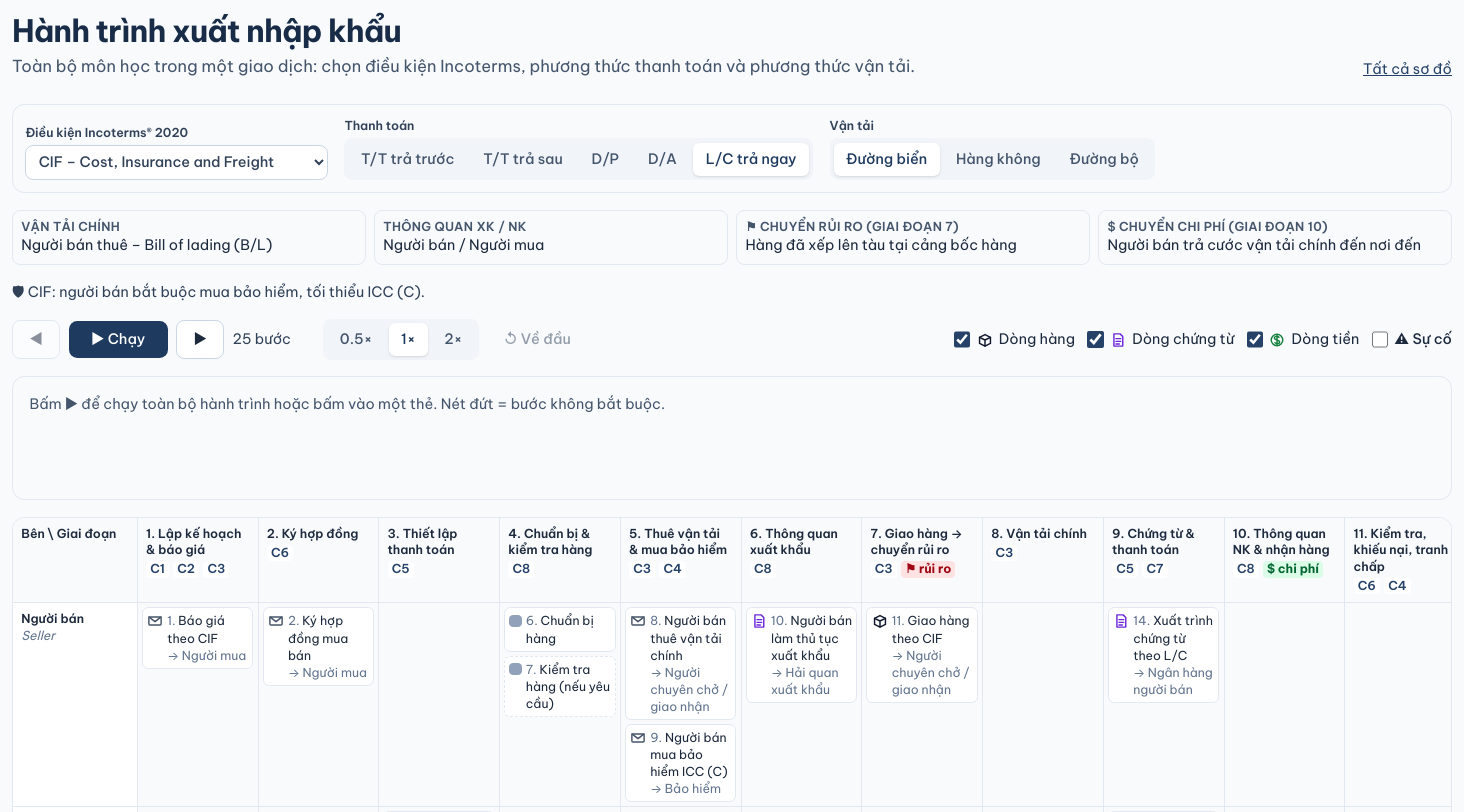
Test: JourneyPage › switching to air disables sea-only rules and explains why
What coordinates should you click on to do the following:
click the radio button labelled "Hàng không"
I would click on:
 (998, 159)
Its box is [944,142,1053,176].
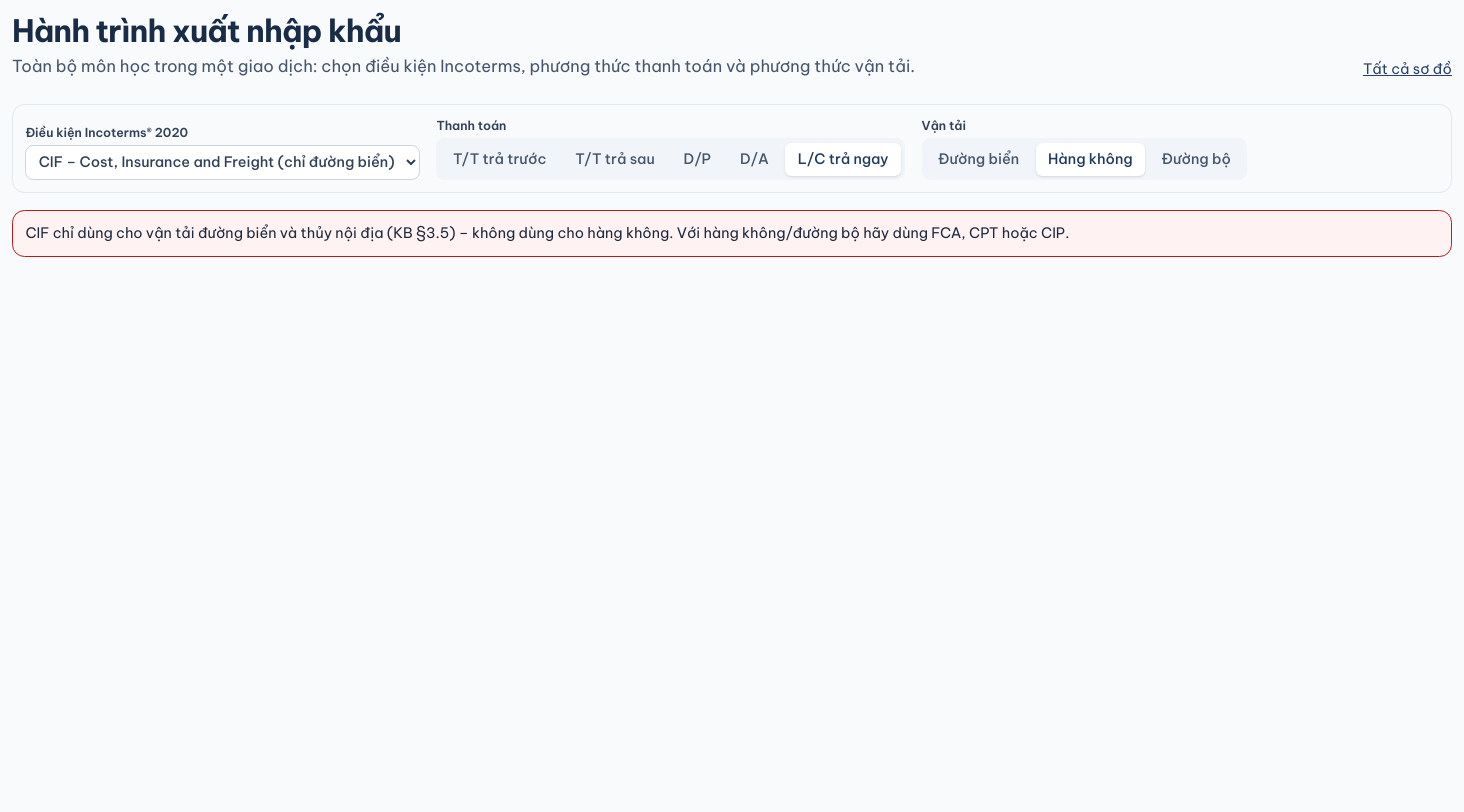
Check: the message shows "CIF chỉ dùng cho vận tải đường biển", box [25,224,1069,242]
